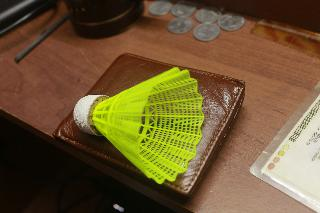shuttlecock: (73, 66, 203, 183)
